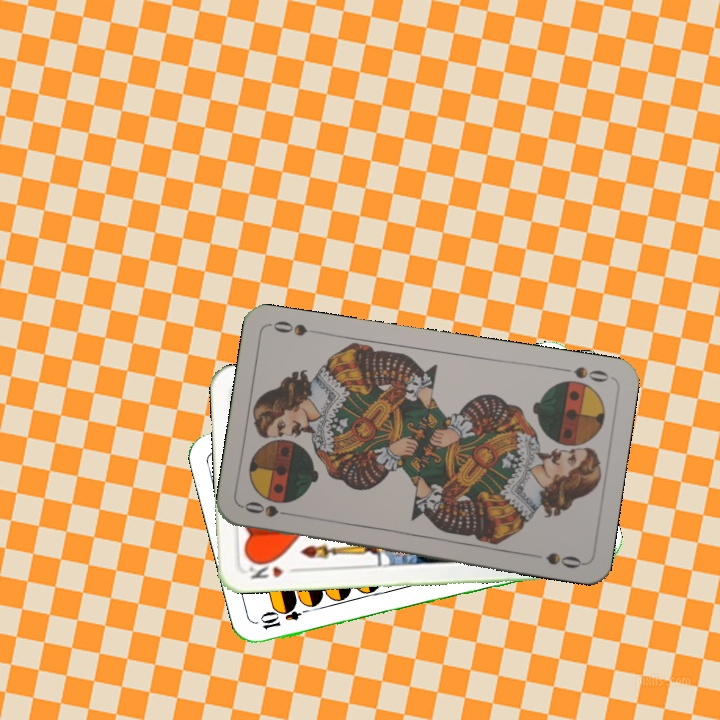E10: (256, 602, 315, 632)
HK: (245, 556, 301, 581)
SO: (240, 497, 299, 520), (554, 362, 612, 385)
